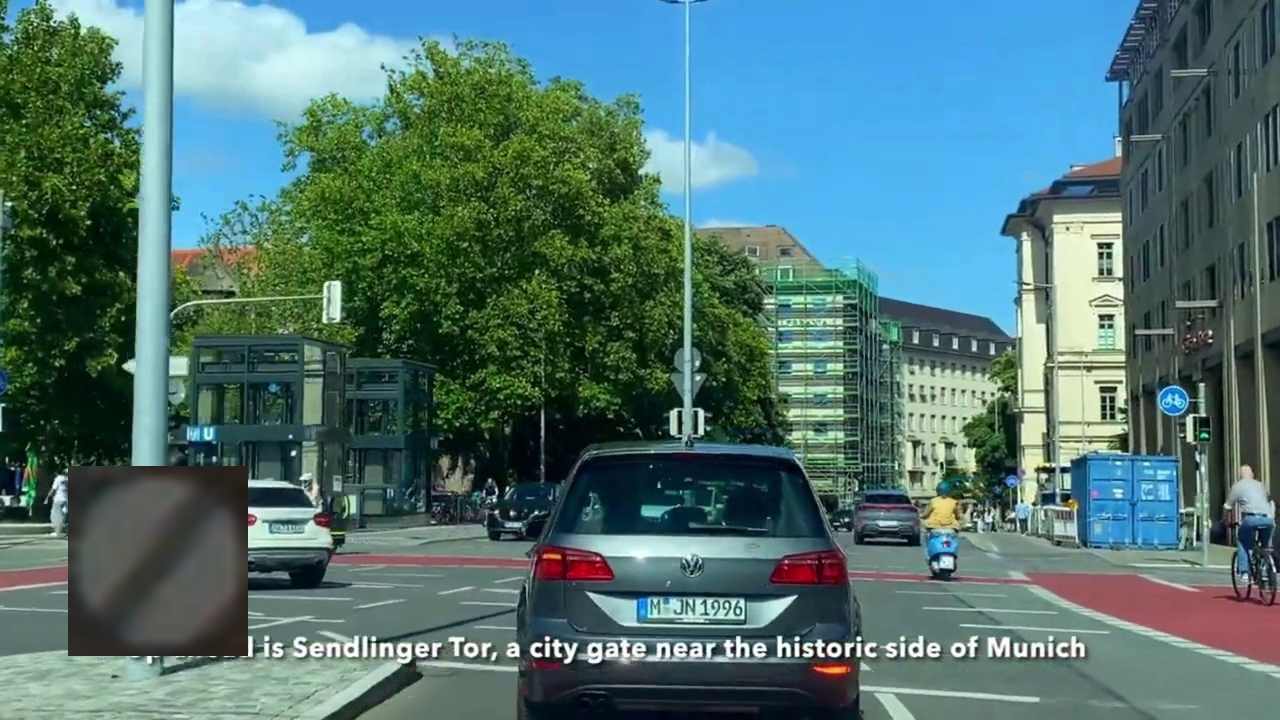End limits: (68, 466, 248, 656)
